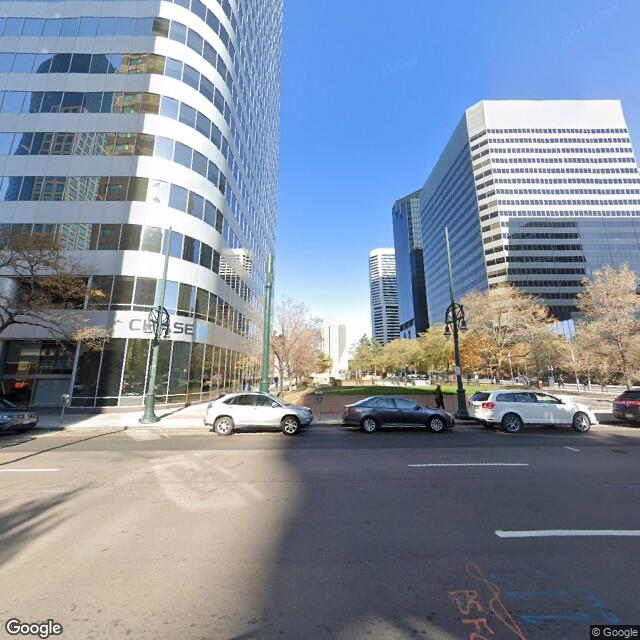lamp: (135, 295, 170, 426)
